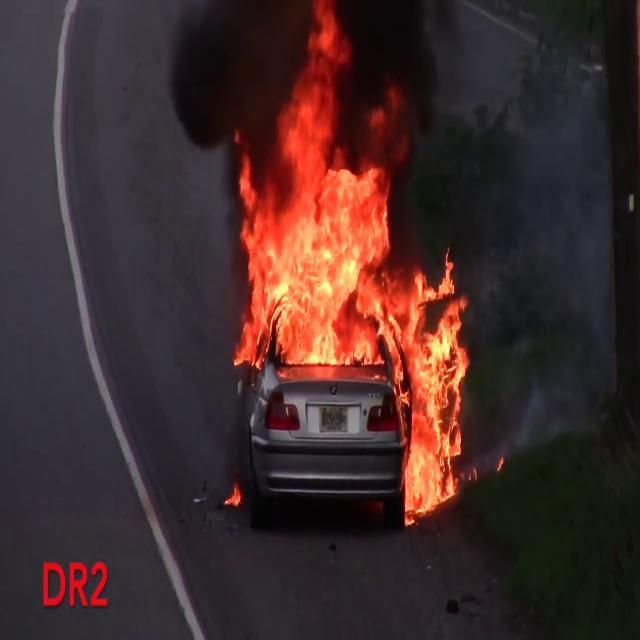Fire: (234, 0, 471, 527)
